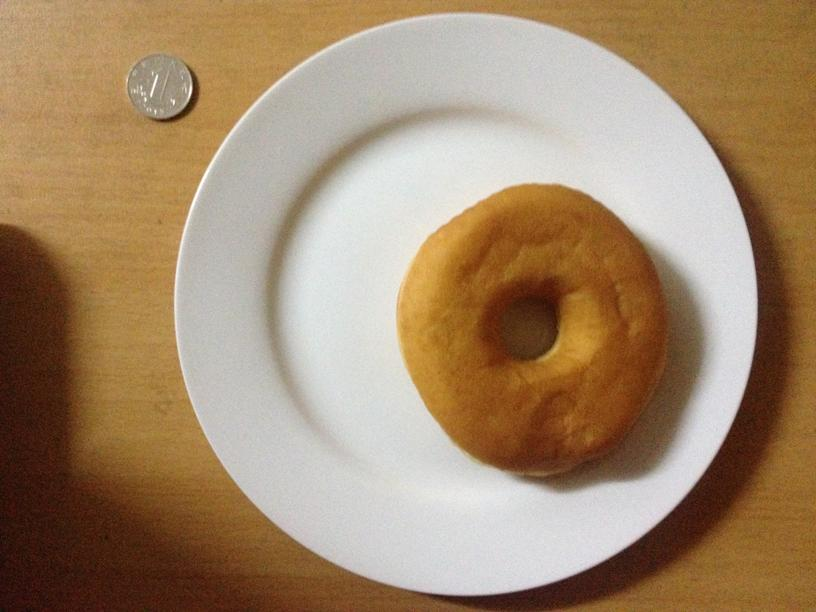coin: (393, 180, 666, 479)
doughnut: (393, 180, 666, 479)
